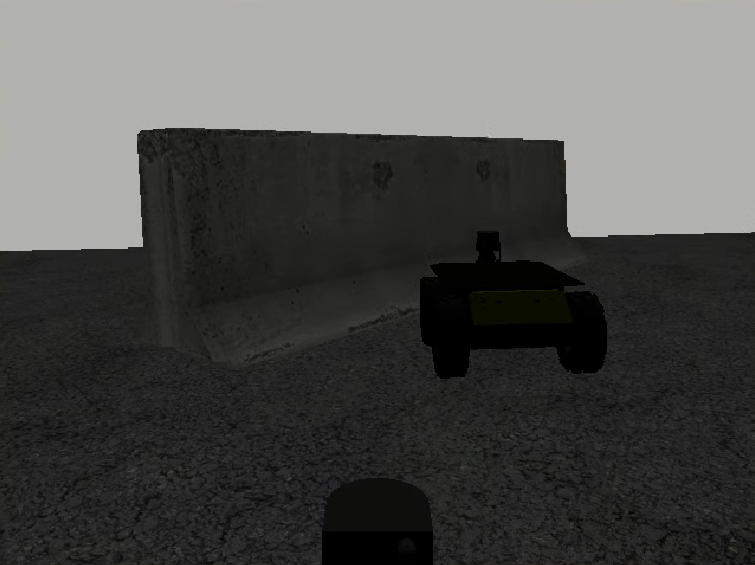husky: (418, 261, 607, 378)
